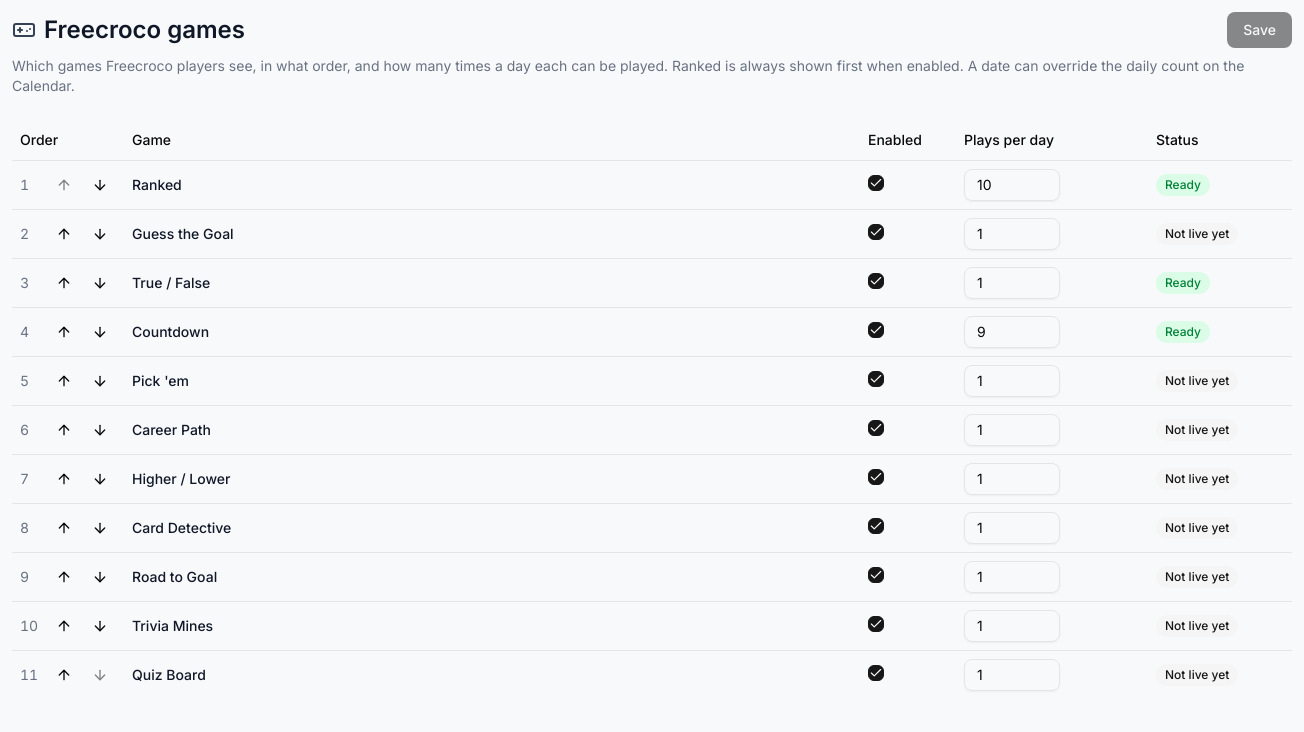
it: keeps the draft when a refused save is followed by a failed reload, and recovers on refresh
Expected: the text "Countdown" is shown, [124,307,860,356]
Replace the text in the number field named "Countdown plays per day" with "2" at {"x": 1012, "y": 332}, box [964,316,1060,348]
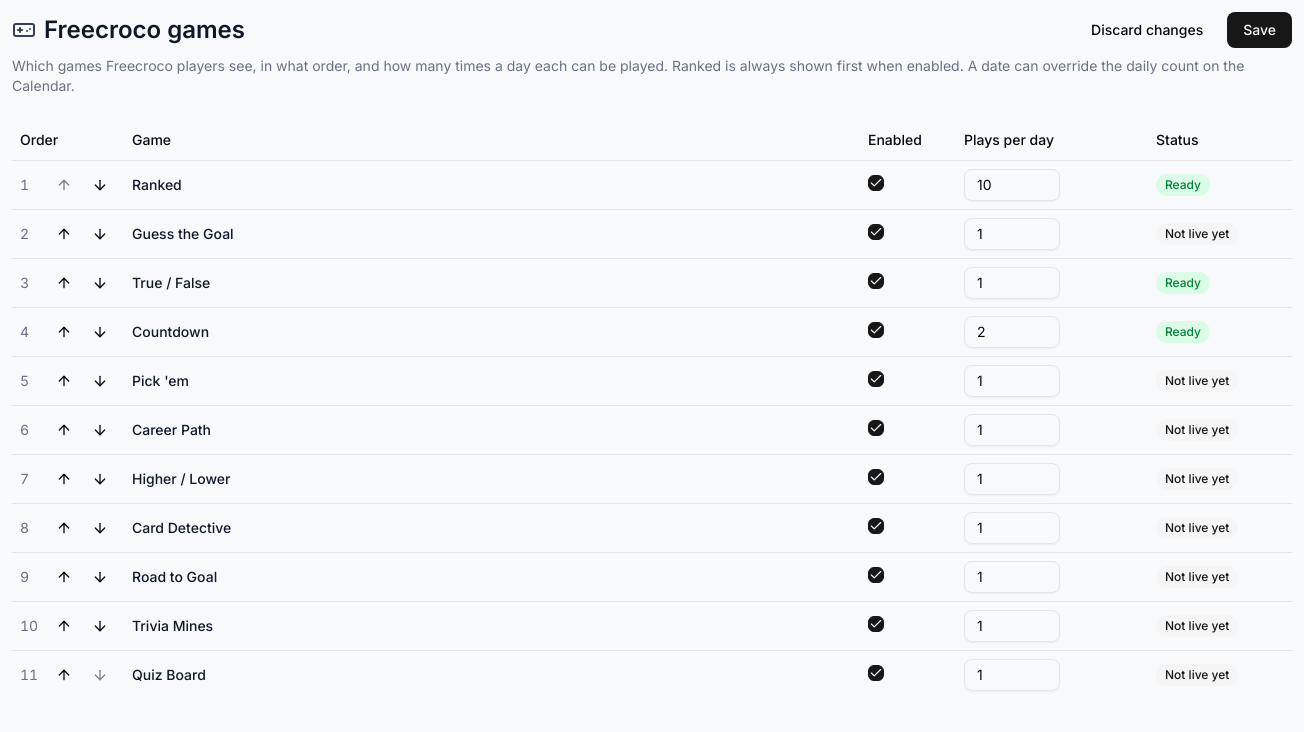
Click the button "Save".
click(1260, 30)  # box [1227,12,1292,48]
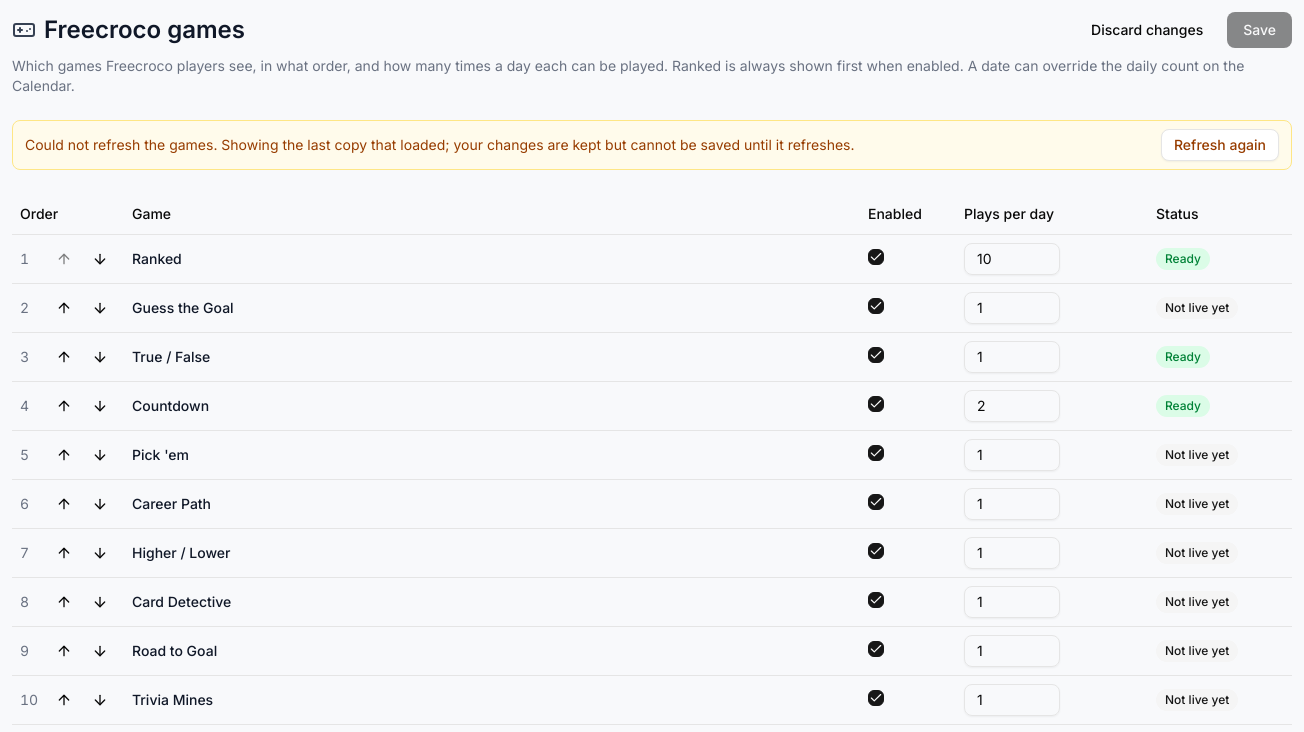
Now the button "Save" is disabled, box [1227,12,1292,48]
Click the button "Refresh again".
click(1220, 145)  # box [1161,129,1279,161]
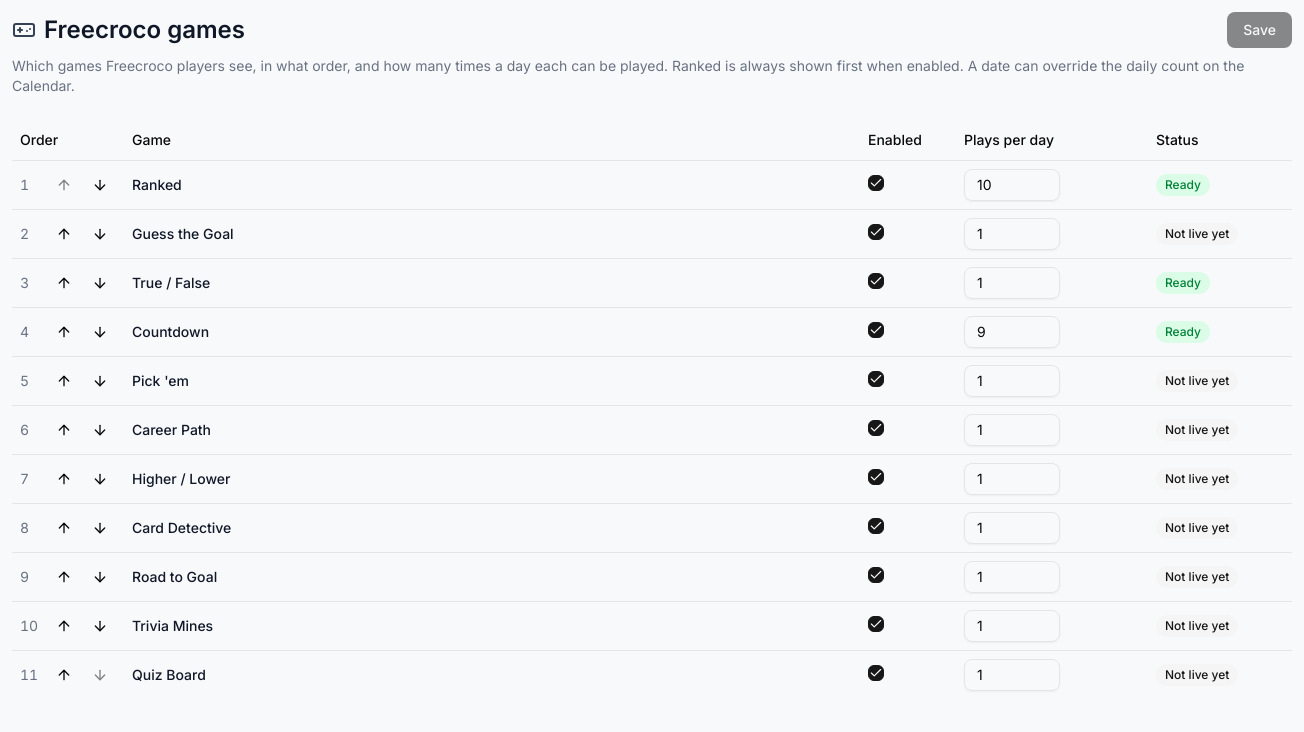
Now the text "Could not refresh the games" is gone
